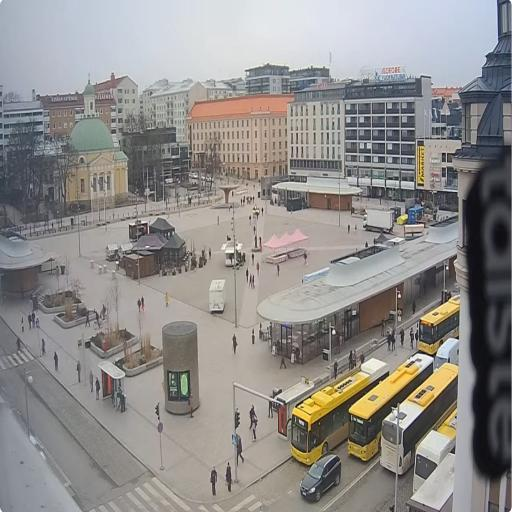bus: (281, 354, 392, 467), (344, 351, 438, 470), (380, 361, 457, 476), (412, 401, 457, 500), (411, 290, 458, 356)
car: (300, 452, 342, 504), (206, 174, 216, 184), (190, 172, 198, 180), (201, 175, 205, 181)
delivery: (432, 338, 459, 372), (362, 207, 396, 233)
two-wheels: (92, 308, 103, 332), (99, 301, 108, 323)
